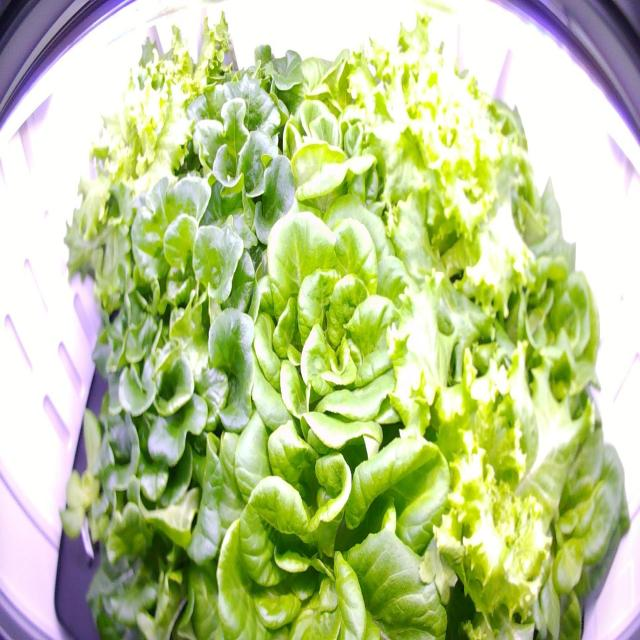Ready: (177, 360, 460, 638), (231, 192, 453, 464), (455, 397, 633, 639), (450, 203, 612, 418), (267, 97, 415, 244), (274, 34, 388, 138)
young: (41, 398, 143, 564)
